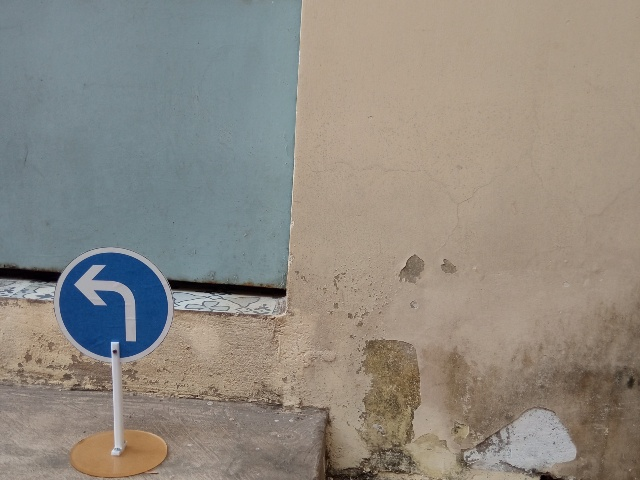Left_Sign: (53, 247, 174, 364)
